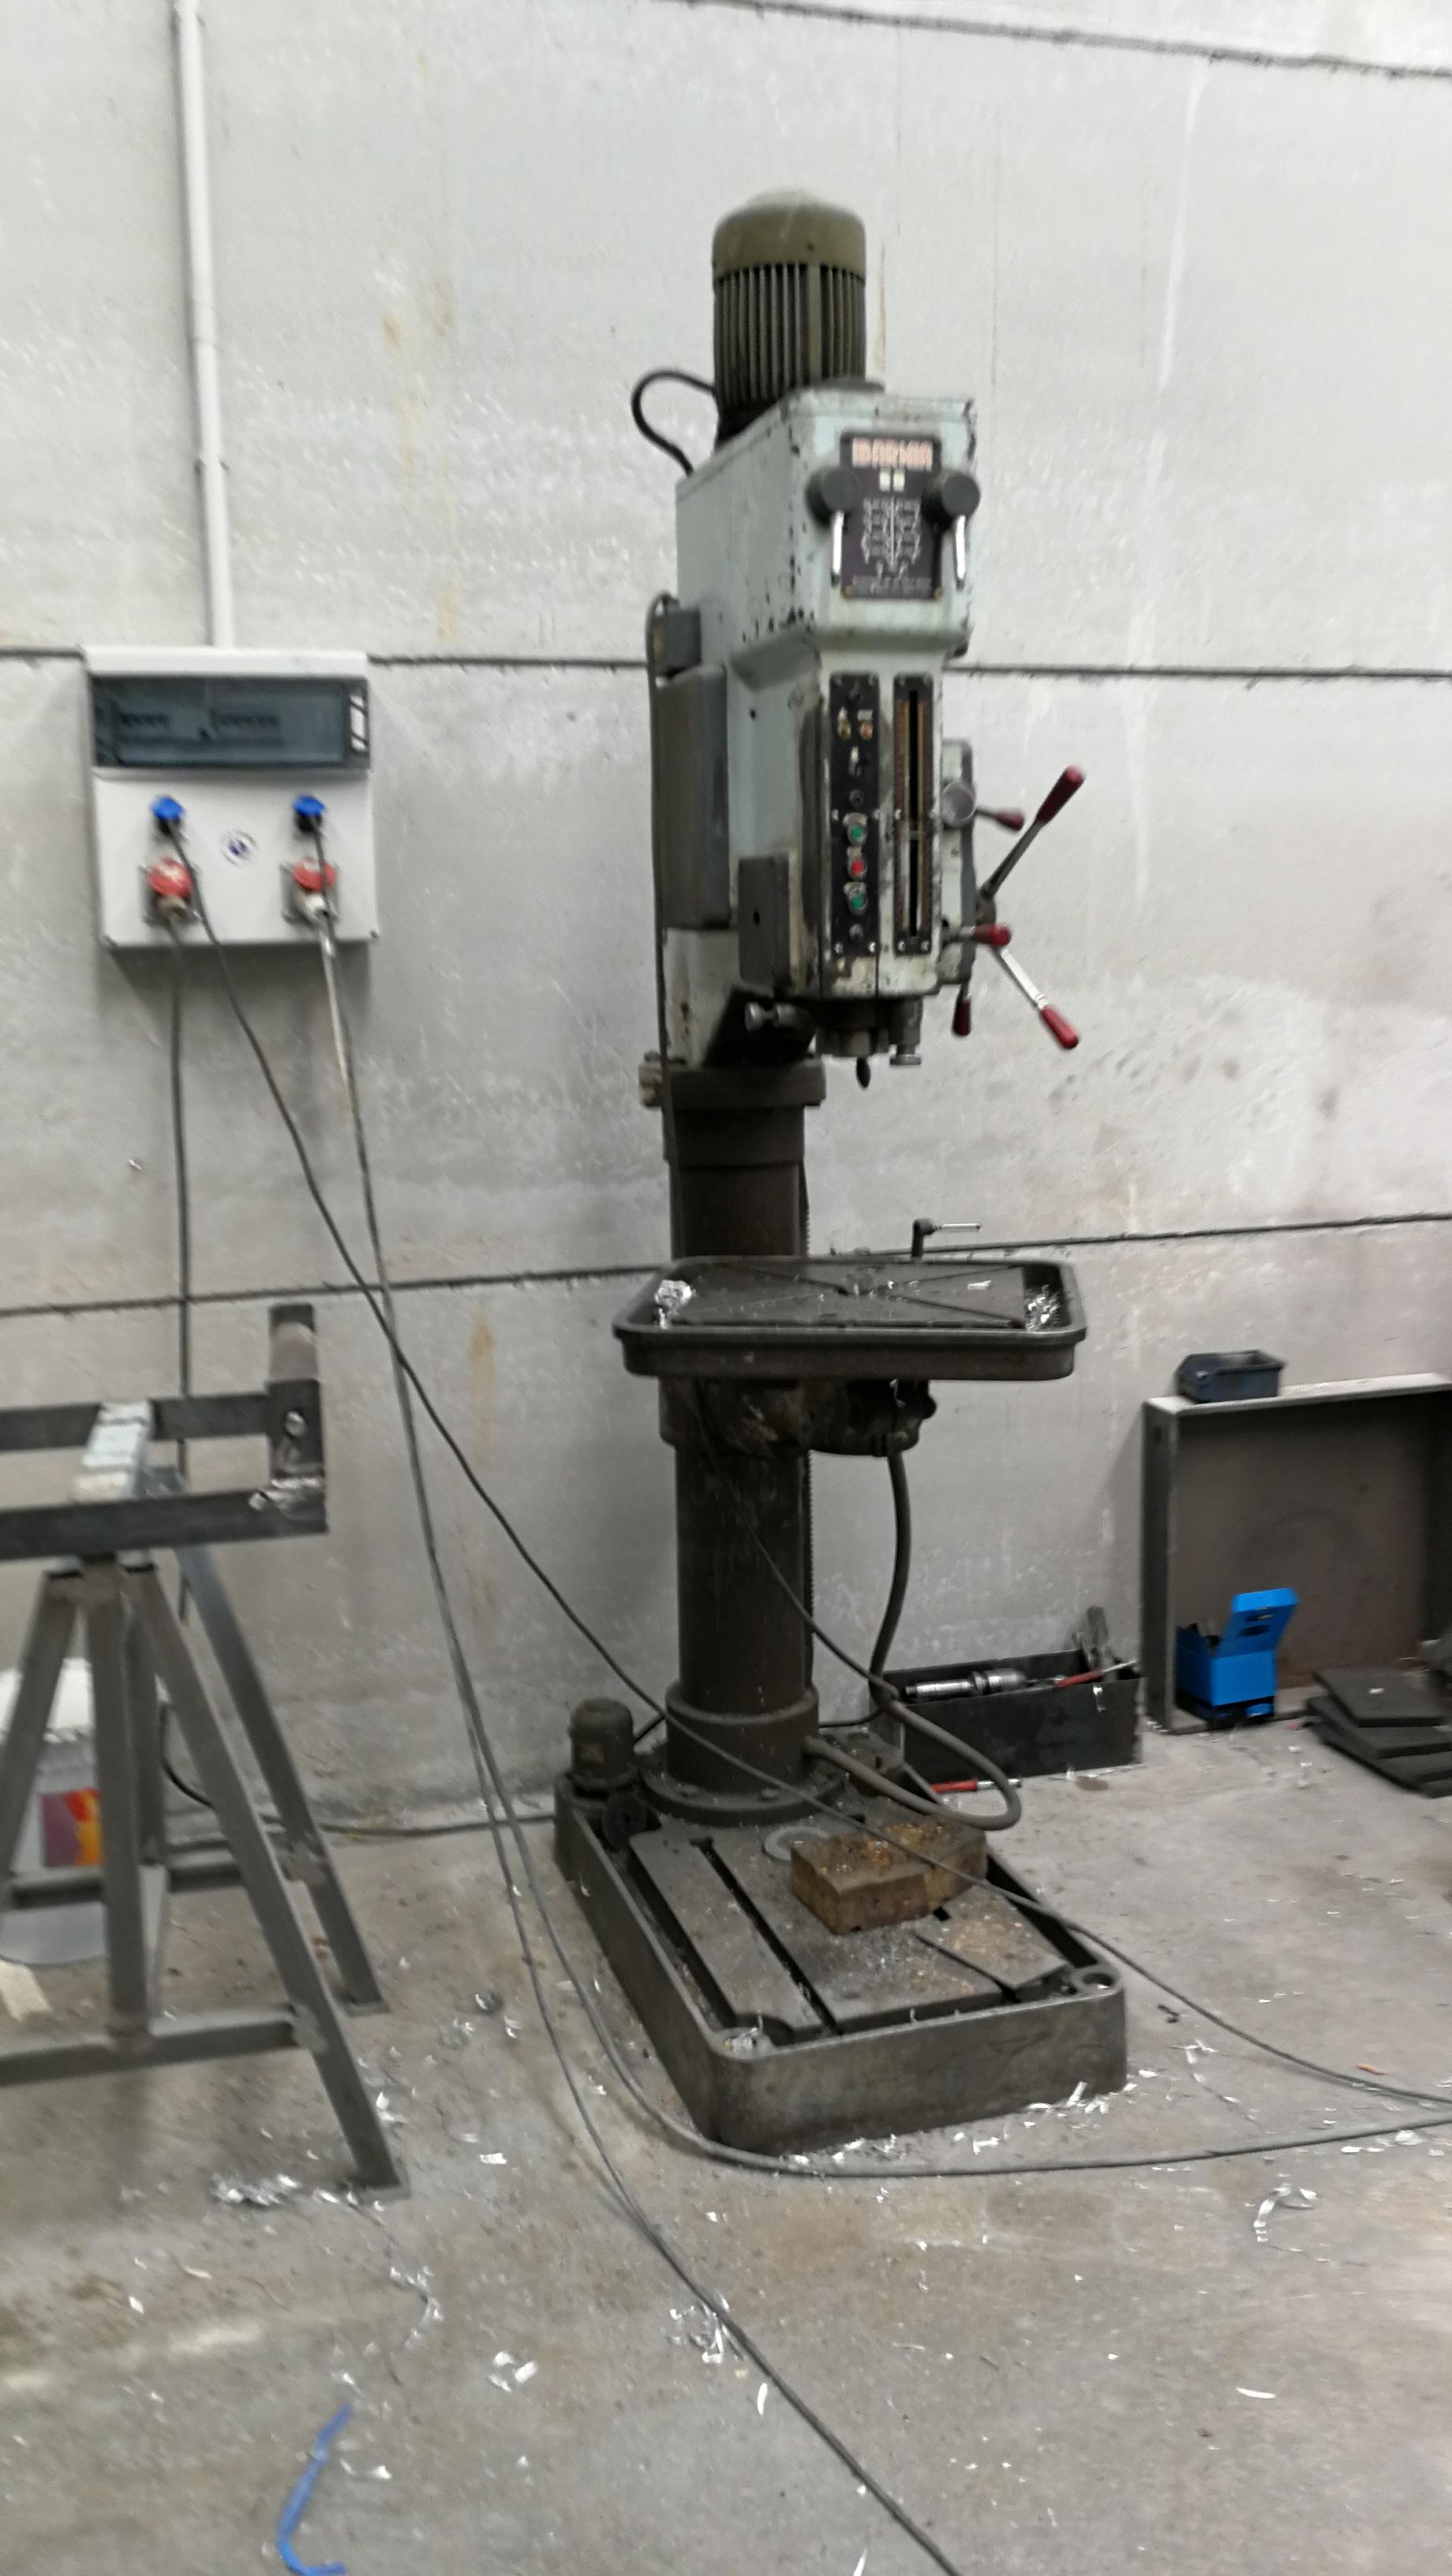falta_resguardo: (813, 987, 924, 1124)
mandos_inseguros: (820, 658, 889, 965)
sin_indicador_emergencia: (758, 678, 810, 742)
sin_senalizacion_riesgos: (678, 473, 786, 610)
